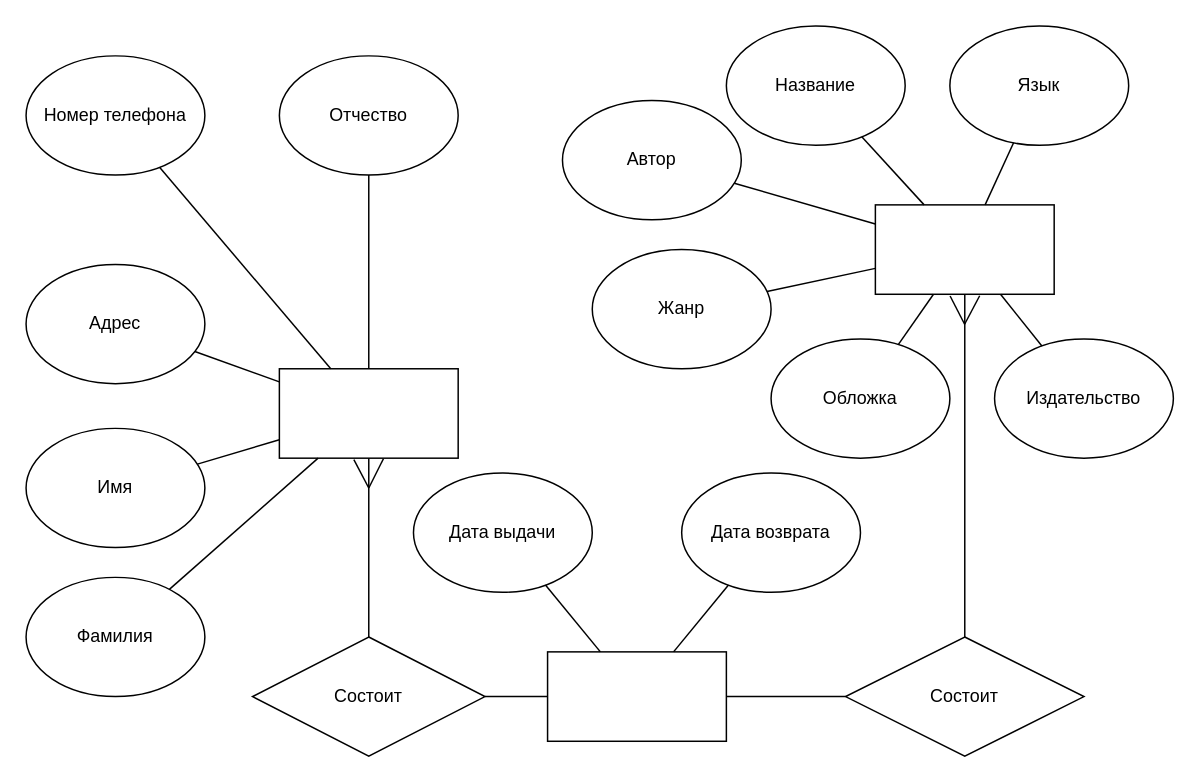
This 1199x782 diagram has some shape labels left out. The box of each missing label's shape, as (x1, y1, x2, y2) in pixels:
Задолженость: (546, 650, 726, 741)
Книга: (874, 203, 1054, 294)
Читатель: (278, 367, 458, 458)
